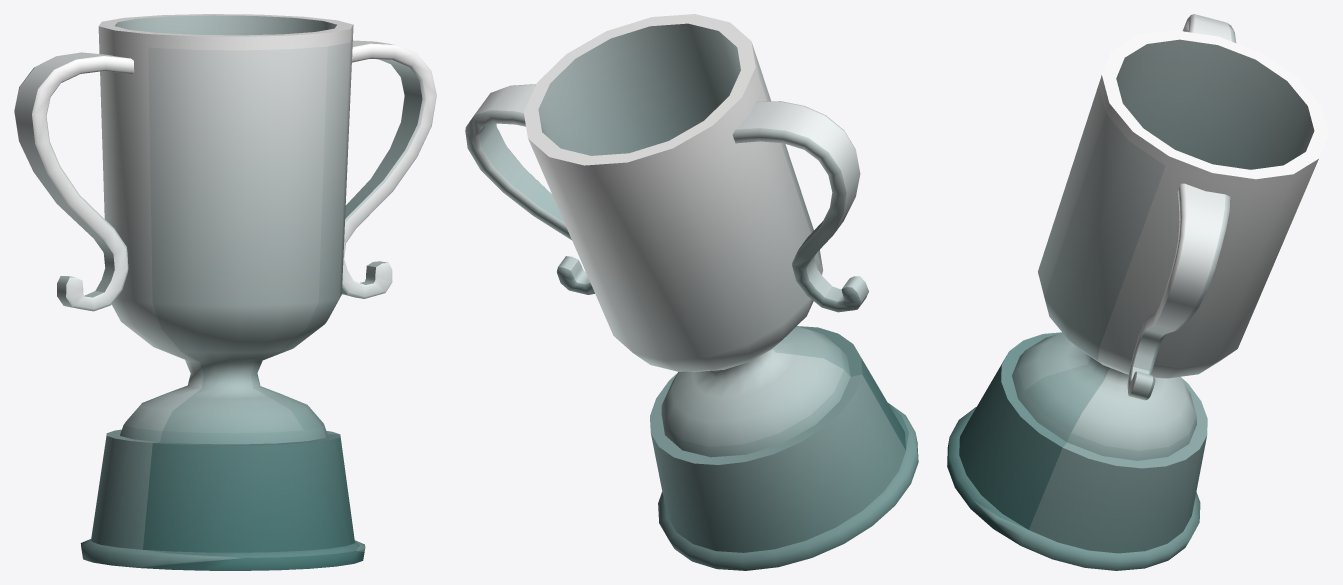
Rendered from Integrity_Trophy.fbx.
The picture shows the model from 3 angles, left to right: view 1: azimuth 30°, elevation 25°; view 2: azimuth 150°, elevation 25°; view 3: azimuth 270°, elevation 25°; orthographic projection. The views are drawn at different scales.
Parts seen in each view (by area): view 1: Integrity_Trophy; view 2: Integrity_Trophy; view 3: Integrity_Trophy.
Part boxes in pixels (bbox=[...]): Integrity_Trophy: bbox=[14, 14, 436, 570]; Integrity_Trophy: bbox=[465, 14, 918, 570]; Integrity_Trophy: bbox=[947, 14, 1328, 570].
Bounding box in the file's own units: 17.35 × 22.3 × 15.52.
